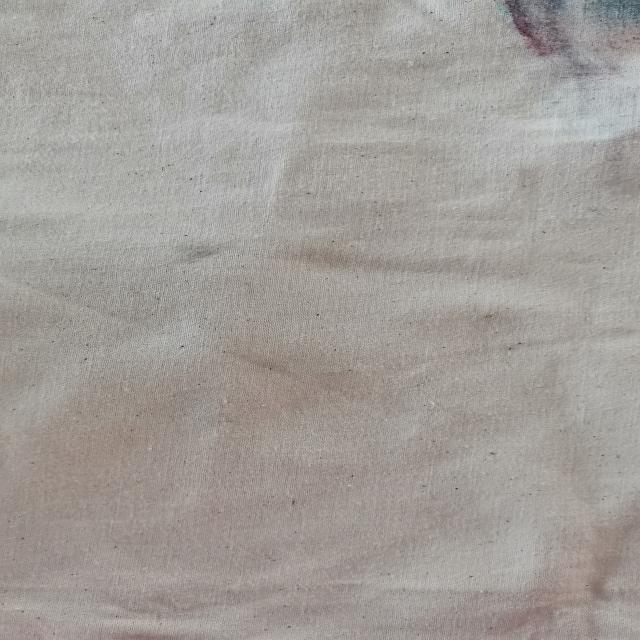taaaches: (489, 0, 640, 77), (164, 237, 236, 272)
